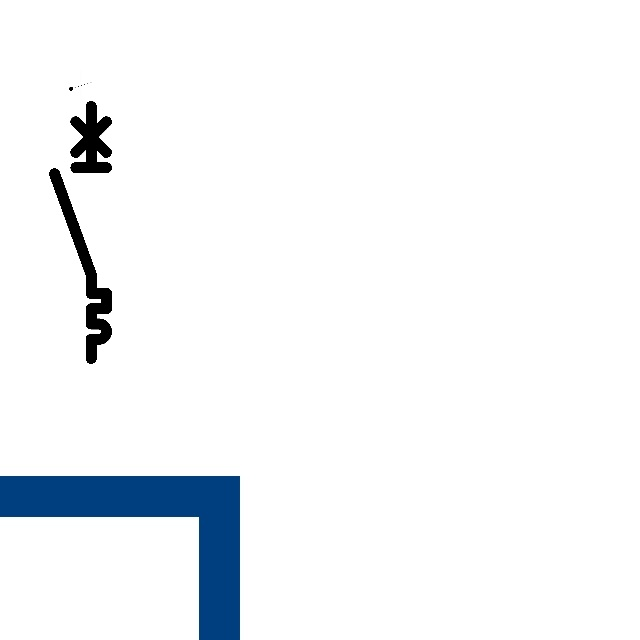interruptor_termomagnetico: (48, 100, 113, 365)
